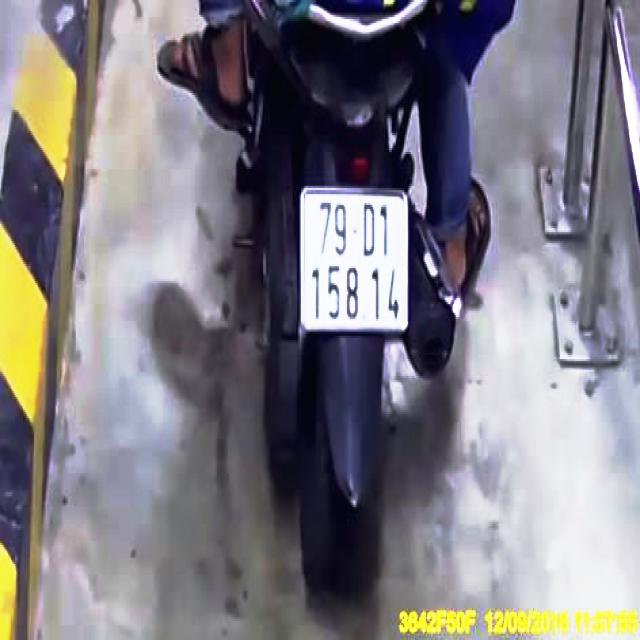license_plate: (304, 193, 407, 329)
